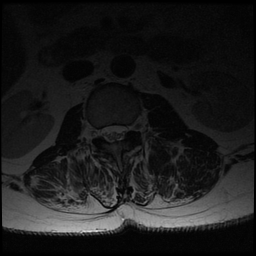CCS_normal: (110, 116, 118, 147)
LFS_normal: (126, 115, 136, 138)
LLS_normal: (119, 116, 127, 145)
RFS_normal: (94, 120, 102, 143)
RLS_normal: (102, 118, 110, 146)
